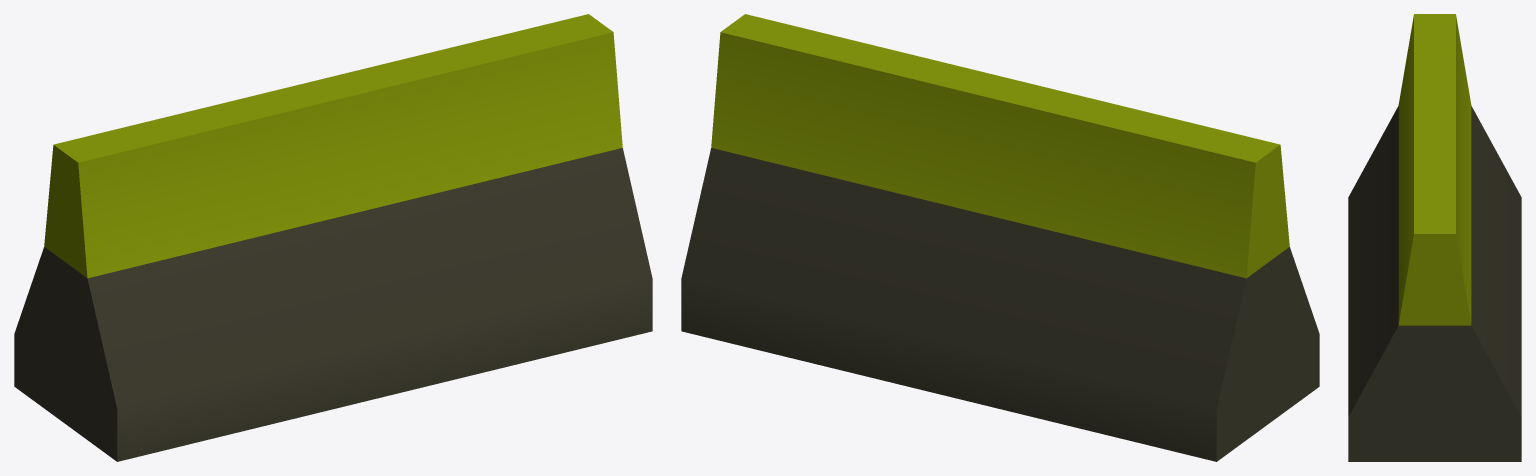
Rendered from Barrier.FBX.
3 renders of one model, left to right at view 1: azimuth 30°, elevation 25°; view 2: azimuth 150°, elevation 25°; view 3: azimuth 270°, elevation 25°, orthographic. The views are drawn at different scales.
Visible parts, largest first — view 1: Barrier; view 2: Barrier; view 3: Barrier.
Boxes of the visible parts, <box> form: Barrier: <box>14,14,652,461</box>; Barrier: <box>681,14,1319,461</box>; Barrier: <box>1348,14,1521,461</box>.
Bounding box in the file's own units: 4 × 1.93 × 1.33.
